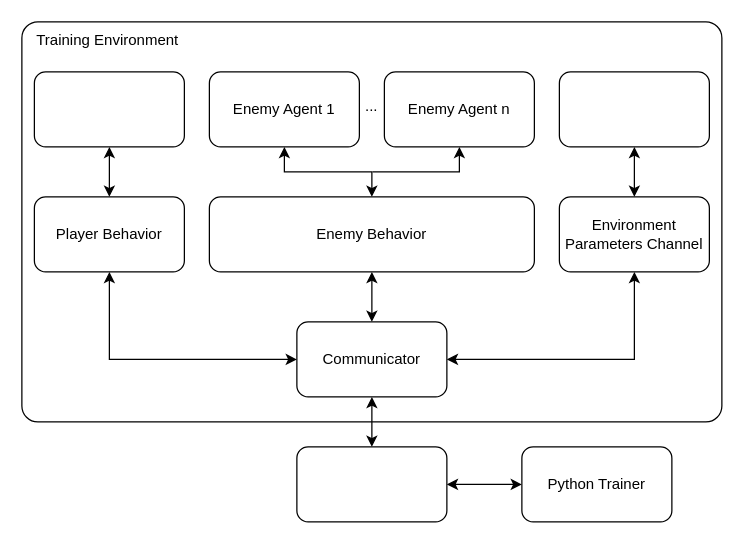
Some shapes in this 744 by 544 pixel diagram are drawn without their labels. Each missing label, with the centre of its shape:
"Environment Parameters" belongs at pixel 633 109.
"Player Agent" belongs at pixel 108 109.
"Python API" belongs at pixel 371 484.
